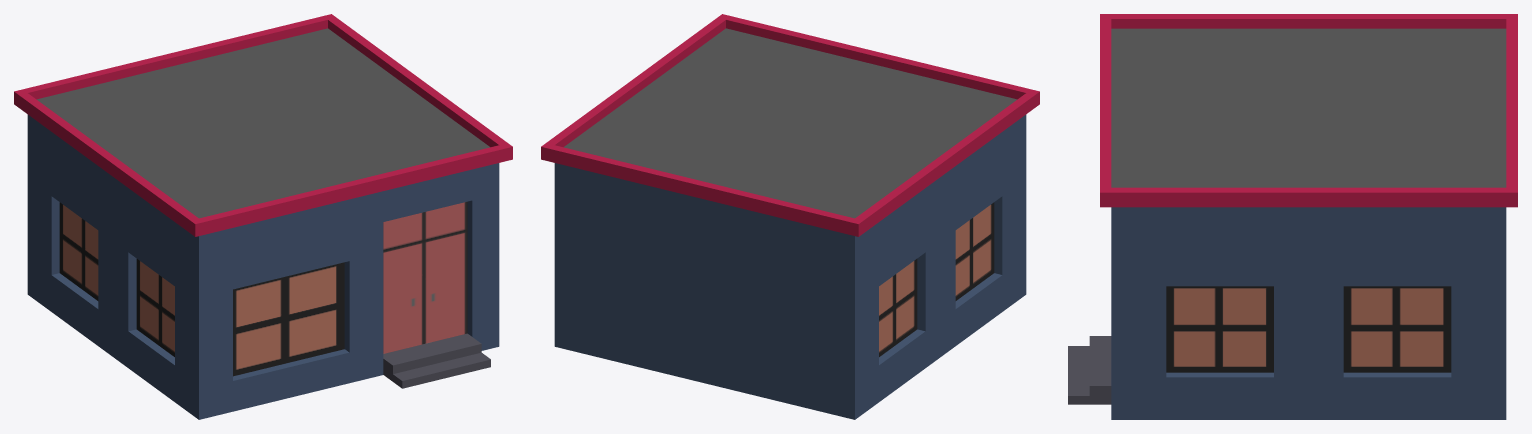
The model's file is building6a.FBX.
3 views of the same model, side by side, from view 1: azimuth 30°, elevation 25°; view 2: azimuth 150°, elevation 25°; view 3: azimuth 270°, elevation 25° (orthographic). The views are drawn at different scales.
Parts seen in each view (by area): view 1: building6a; view 2: building6a; view 3: building6a.
Part boxes in pixels (x1,y1,x2,y2): building6a: (14,14,512,419); building6a: (541,14,1039,419); building6a: (1068,14,1517,419).
Size of the model in its own units: 13.86 by 8.4 by 14.76.
